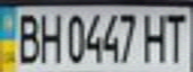0: (63, 9, 84, 64)
4: (84, 9, 106, 63), (103, 10, 124, 64)
7: (118, 9, 142, 63)
B: (9, 9, 42, 65)
H: (139, 9, 172, 63), (36, 8, 63, 64)
T: (160, 9, 193, 64)
